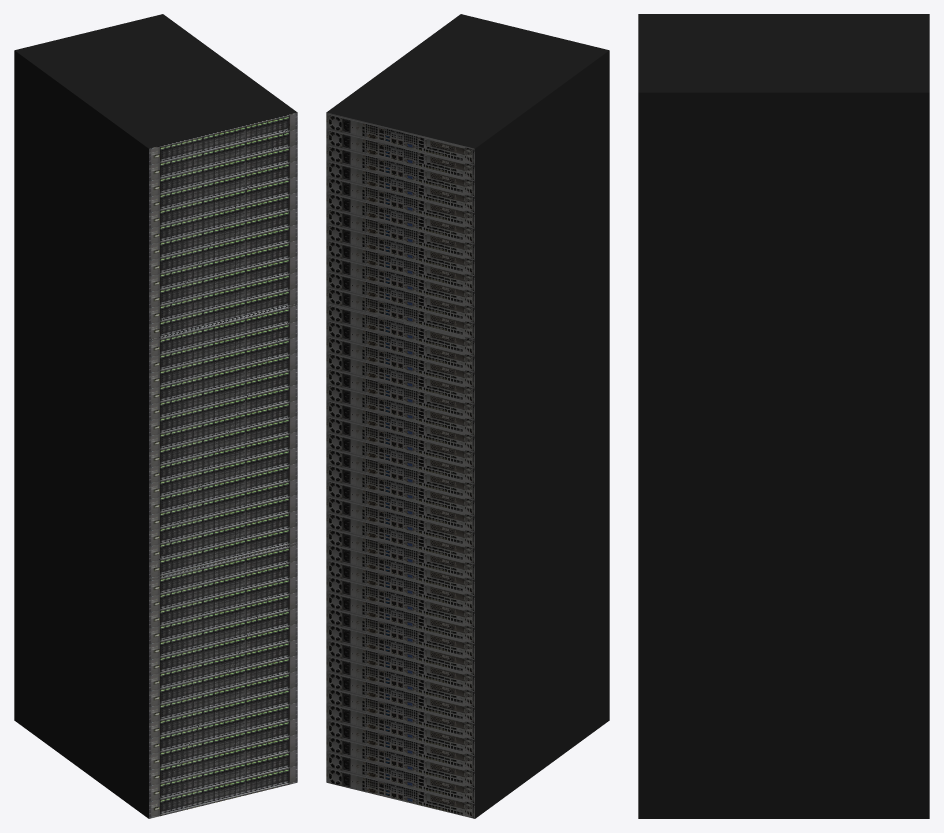
File: SDR42.fbx
3 views of the same model, side by side, from view 1: azimuth 30°, elevation 25°; view 2: azimuth 150°, elevation 25°; view 3: azimuth 270°, elevation 25° (orthographic). The views are drawn at different scales.
Parts seen in each view (by area): view 1: SDR42; view 2: SDR42; view 3: SDR42.
Part boxes in pixels (<box>): SDR42: <box>14,14,297,818</box>; SDR42: <box>326,14,609,818</box>; SDR42: <box>638,14,929,818</box>.
Size of the model in its own units: 434 by 1869 by 680.
Materials: 3 (2 with a texture image).
